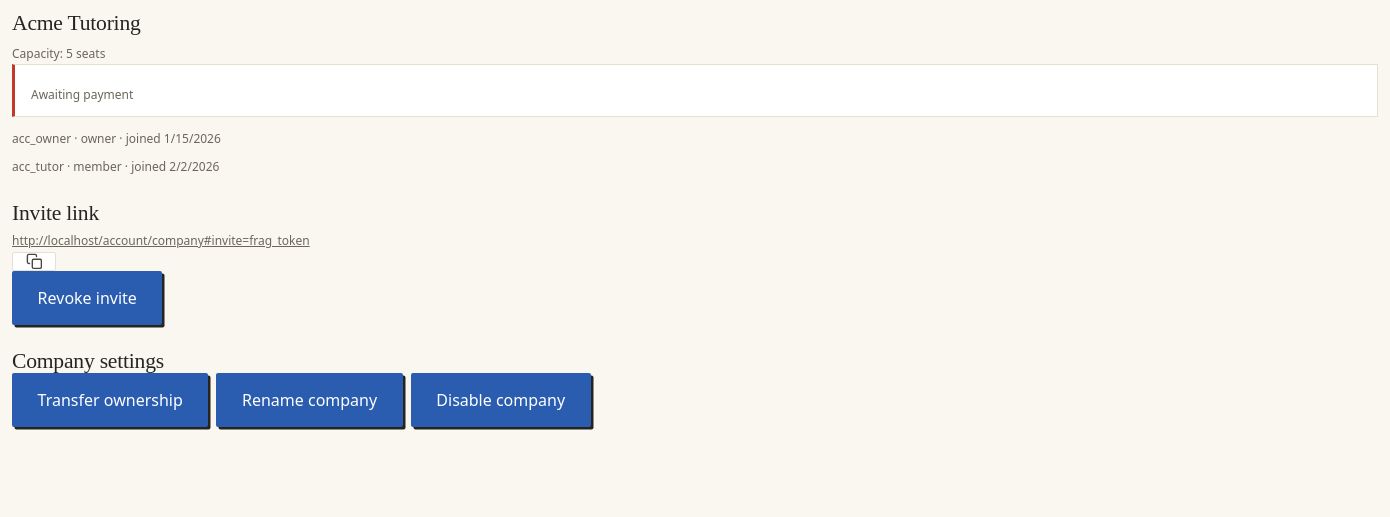
Scenario: CompanyAdminPanel mint and revoke › revokes the fragment invite through DELETE /api/company/invites by hash
The width and height of the screenshot is (1390, 517).
Expected: the link with test id "company-invite-link" is shown, [12,232,310,249]
Click the button with test id "company-invite-revoke": (87, 298) [12,271,162,325]
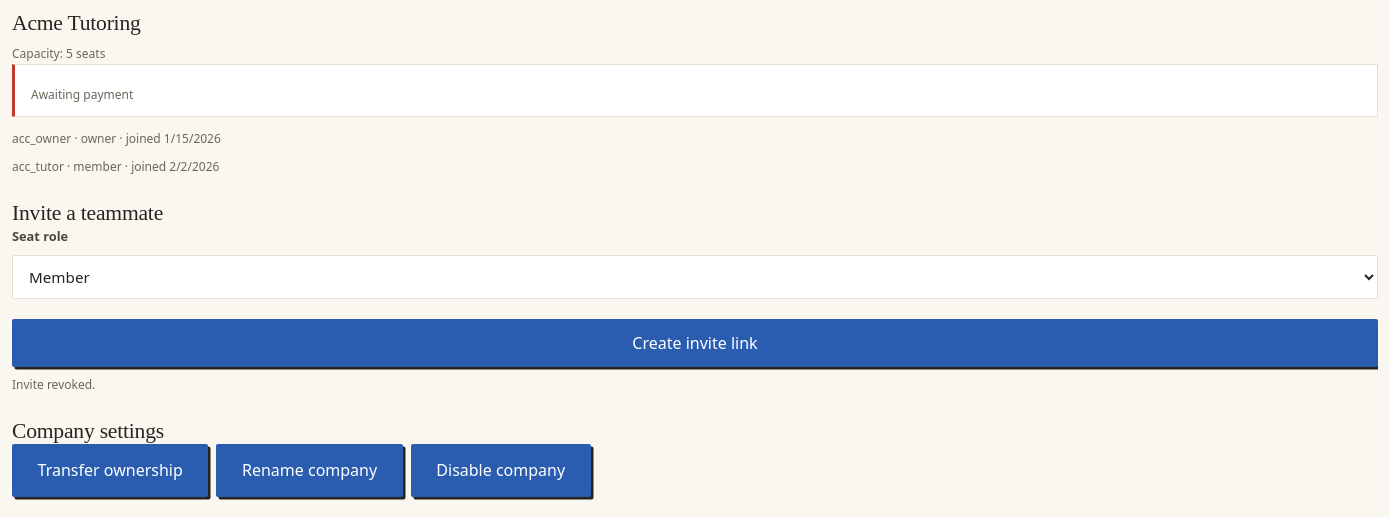
Result: the link with test id "company-invite-link" is gone
Result: the message with test id "company-invite-status" shows "revoked" at [12,376,95,393]
